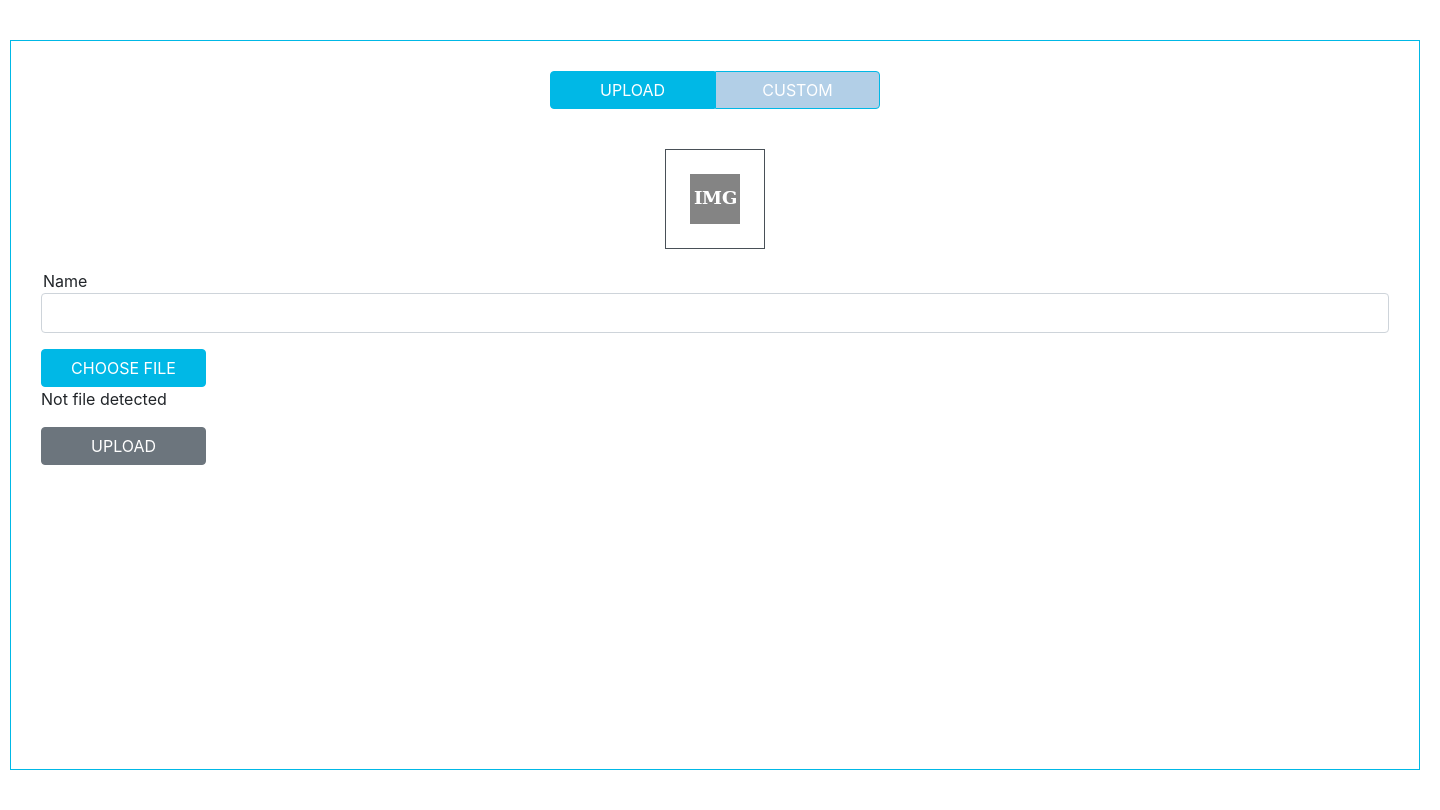
Test case: it should throw error when marker is uploading without image
Step 1. Type "pool" into the field labelled "Name" → (715, 313), box [41,293,1389,333]
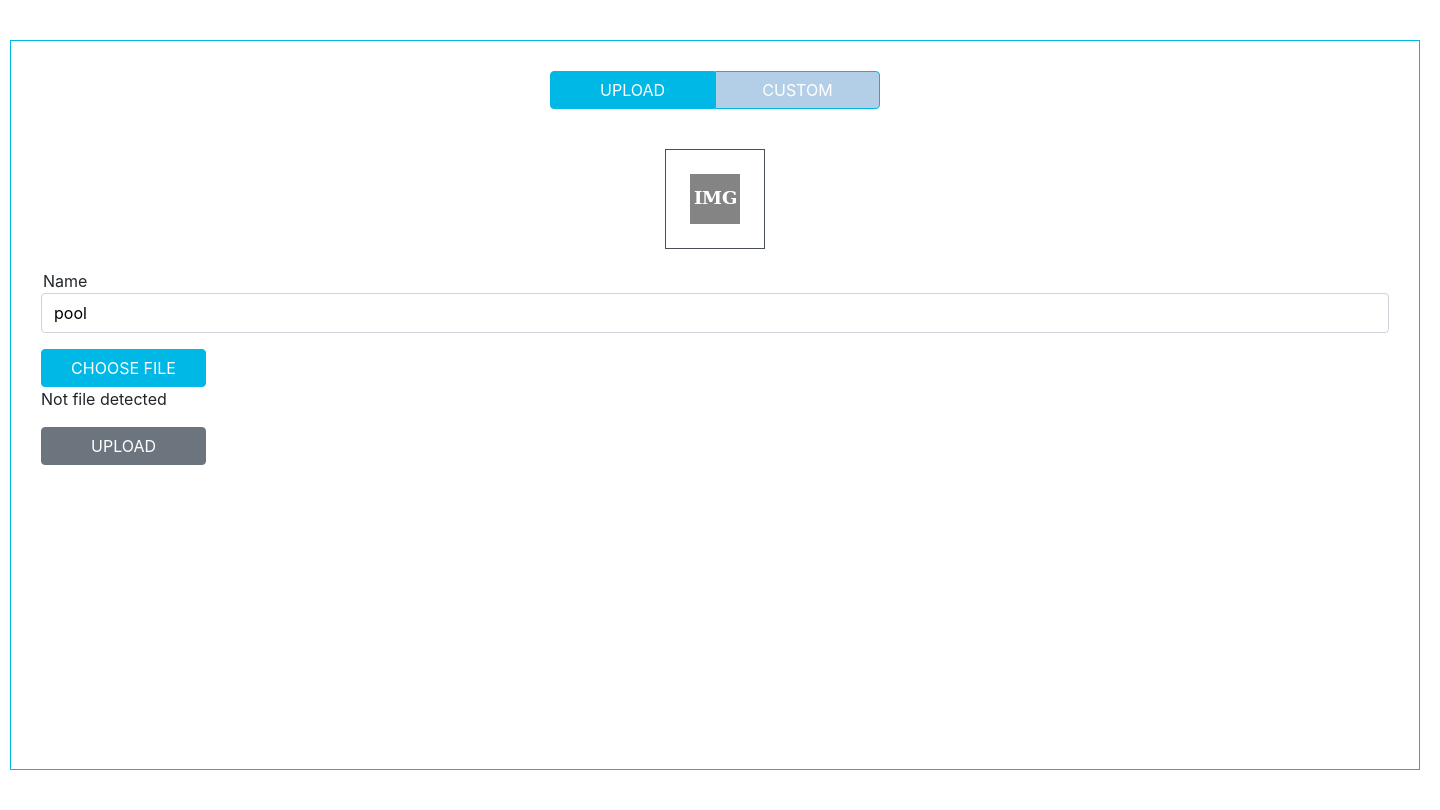
Step 2. Click the button "upload" below "Not file detected" → (124, 446), box [41,427,206,465]
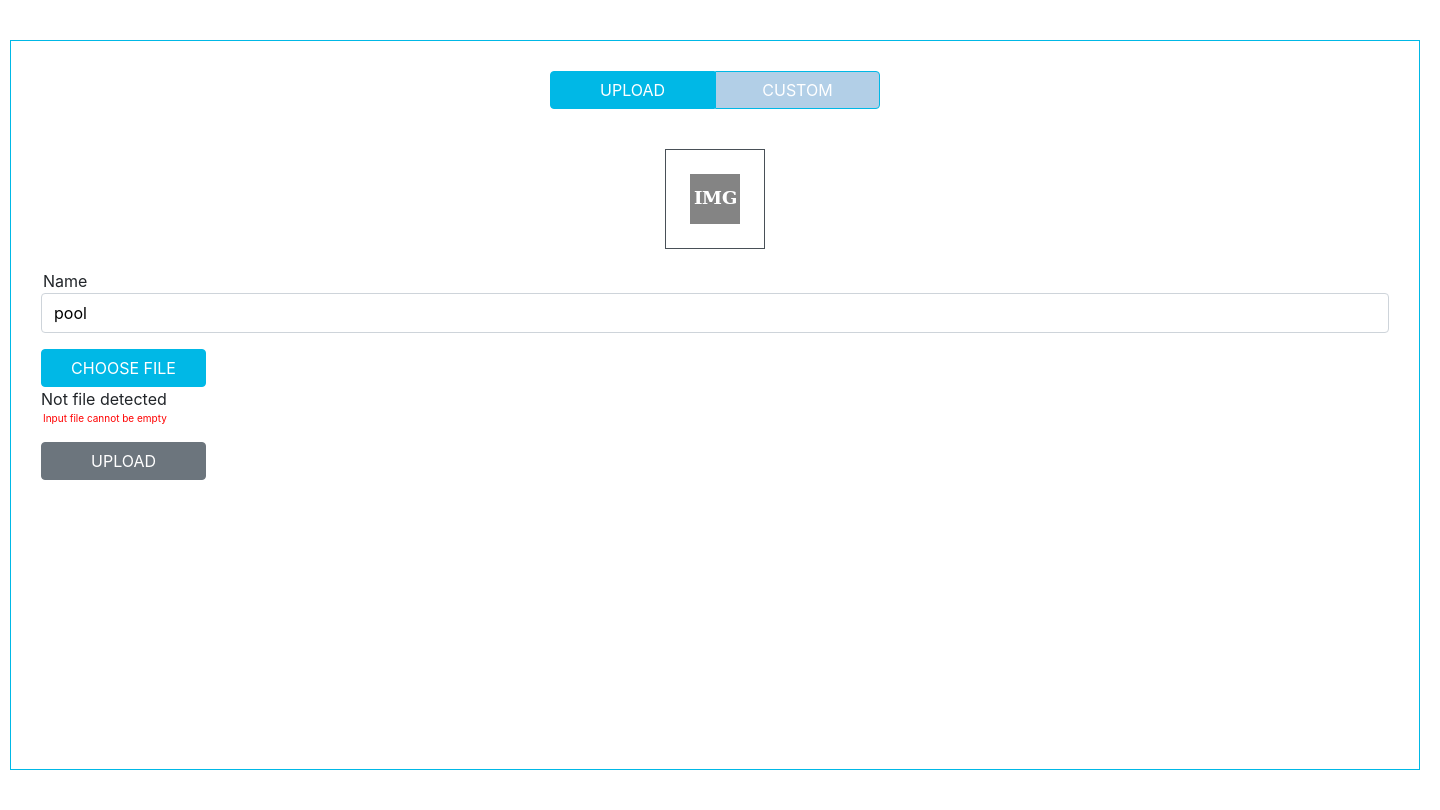
Expected: the text "Input file cannot be empty" is shown, [43,412,167,424]
